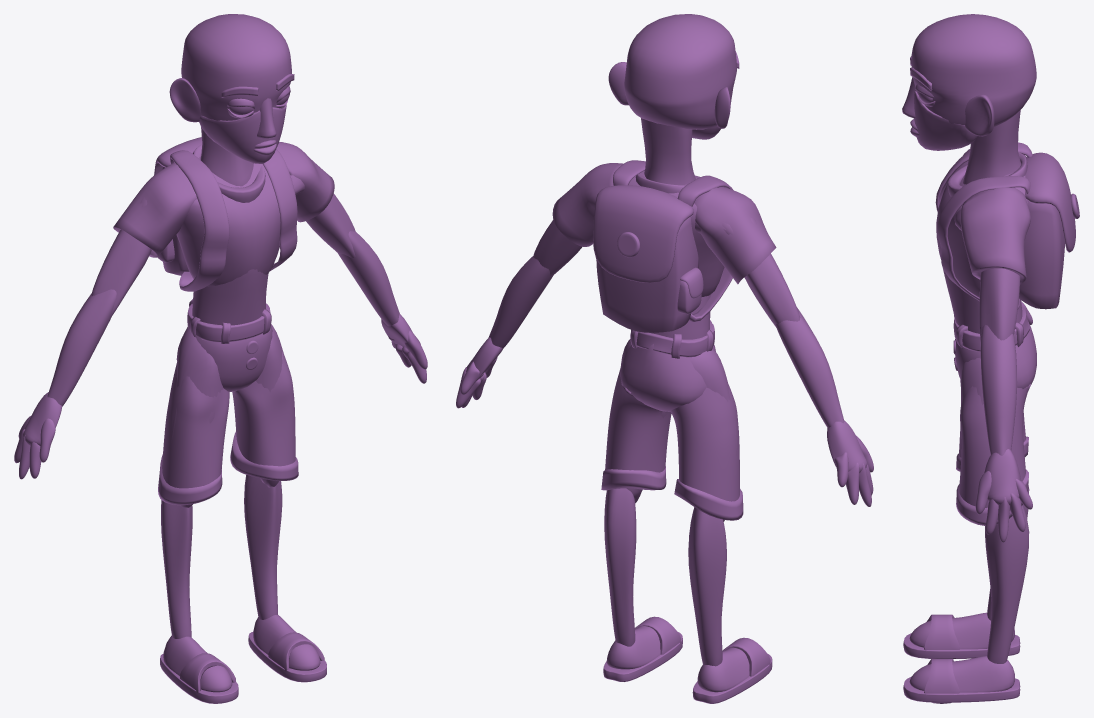
File: BLOCKOUTMAN.fbx
3 renders of one model, left to right at view 1: azimuth 30°, elevation 25°; view 2: azimuth 150°, elevation 25°; view 3: azimuth 270°, elevation 25°, orthographic.
Visible parts, largest first — view 1: Male_body_low, Male_backpack_low, Male_badslipper_low, Male_trim_low, Male_belt_low; view 2: Male_body_low, Male_backpack_low, Male_badslipper_low, Male_trim_low, Male_belt_low; view 3: Male_body_low, Male_backpack_low, Male_badslipper_low, Male_belt_low, Male_trim_low.
Part boxes in pixels (x1,y1,x2,y2): Male_body_low: (14, 14, 427, 692); Male_backpack_low: (154, 137, 297, 291); Male_badslipper_low: (160, 632, 326, 703); Male_trim_low: (158, 432, 298, 505); Male_belt_low: (187, 299, 271, 343); Male_body_low: (456, 14, 873, 692); Male_backpack_low: (593, 160, 733, 332); Male_badslipper_low: (603, 616, 772, 703); Male_trim_low: (601, 466, 743, 520); Male_belt_low: (630, 320, 714, 358); Male_body_low: (902, 14, 1036, 692); Male_backpack_low: (935, 142, 1079, 309); Male_badslipper_low: (903, 614, 1020, 703); Male_belt_low: (953, 303, 1029, 351); Male_trim_low: (956, 436, 1028, 525).
Size of the model in its own units: 0.927 by 1.41 by 0.3491.
